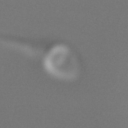normal: (1, 31, 44, 60)
